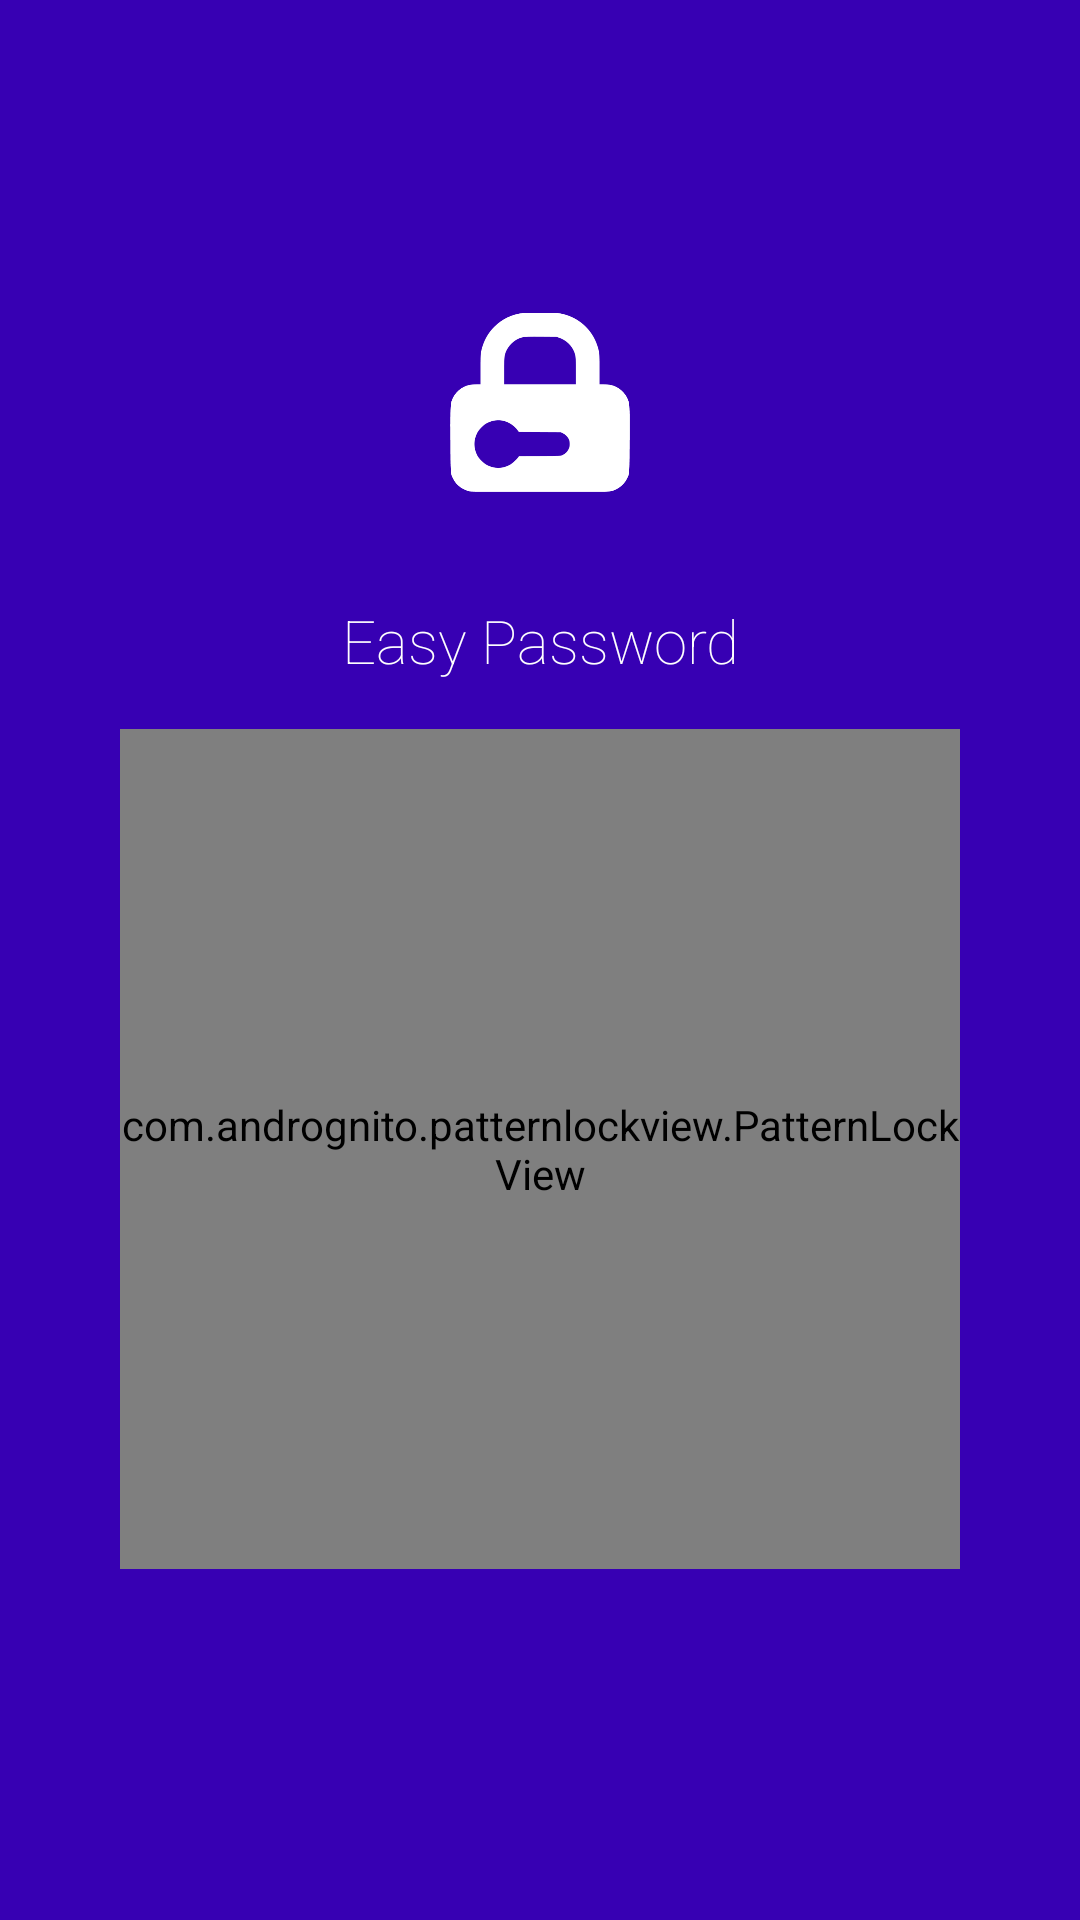

Named icons in this screenshot (1080 x 1920) and their bounding boxes, (x1, y1, x2, y2):
padlock: (450, 313, 630, 492)
